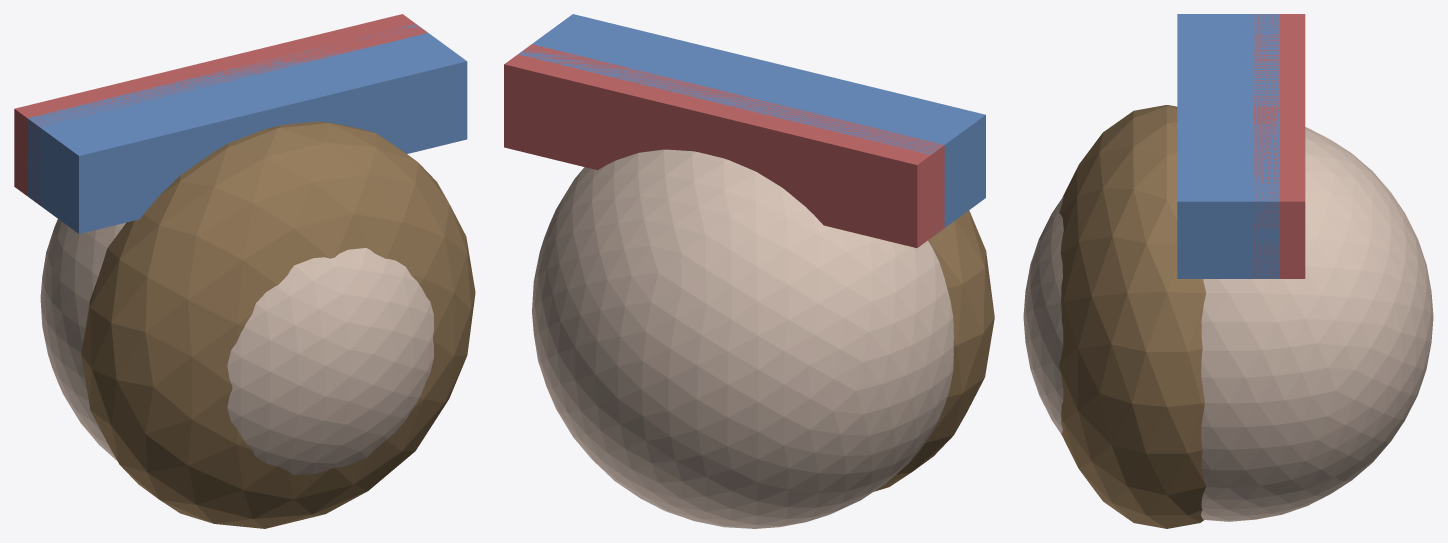
The model's file is windman_head.glb.
The picture shows the model from 3 angles, left to right: view 1: azimuth 30°, elevation 25°; view 2: azimuth 150°, elevation 25°; view 3: azimuth 270°, elevation 25°; orthographic projection. The views are drawn at different scales.
Visible parts, largest first — view 1: world; view 2: world; view 3: world.
Boxes of the visible parts, box(x1,y1,x2,y2) form: world: box(14, 14, 475, 528); world: box(504, 14, 994, 528); world: box(1023, 14, 1433, 528).
Size of the model in its own units: 0.26 by 0.26 by 0.24.
